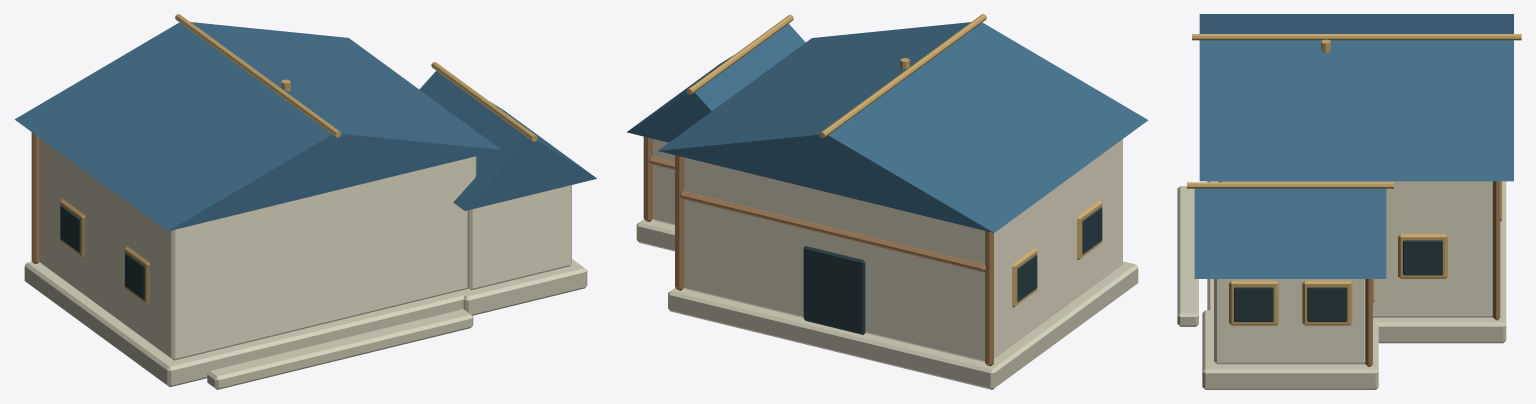
The model's file is level_10.glb.
3 views of the same model, side by side, from view 1: azimuth 30°, elevation 25°; view 2: azimuth 150°, elevation 25°; view 3: azimuth 270°, elevation 25° (orthographic). The views are drawn at different scales.
Visible parts, largest first — view 1: warehouse — level 10; view 2: warehouse — level 10; view 3: warehouse — level 10.
Boxes of the visible parts, box(x1,y1,x2,y2) form: warehouse — level 10: box(15, 14, 596, 389); warehouse — level 10: box(627, 14, 1148, 389); warehouse — level 10: box(1177, 14, 1521, 389).
Bounding box in the file's own units: 6.61 × 3.3 × 4.49.
